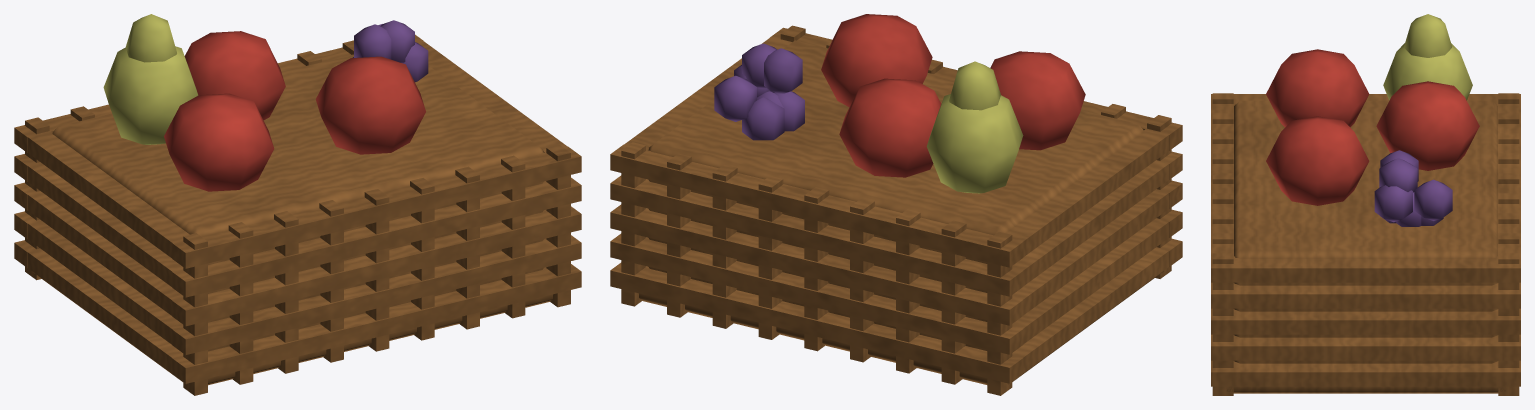
Rendered from Furn_BasketFruit.fbx.
3 renders of one model, left to right at view 1: azimuth 30°, elevation 25°; view 2: azimuth 150°, elevation 25°; view 3: azimuth 270°, elevation 25°, orthographic. The views are drawn at different scales.
Visible parts, largest first — view 1: Furn_BasketFruit_Mesh; view 2: Furn_BasketFruit_Mesh; view 3: Furn_BasketFruit_Mesh.
Boxes of the visible parts, x1,y1,x2,y2 form: Furn_BasketFruit_Mesh: [14, 14, 581, 395]; Furn_BasketFruit_Mesh: [610, 14, 1182, 395]; Furn_BasketFruit_Mesh: [1211, 14, 1520, 395].
Size of the model in its own units: 0.6 by 0.4 by 0.45.
